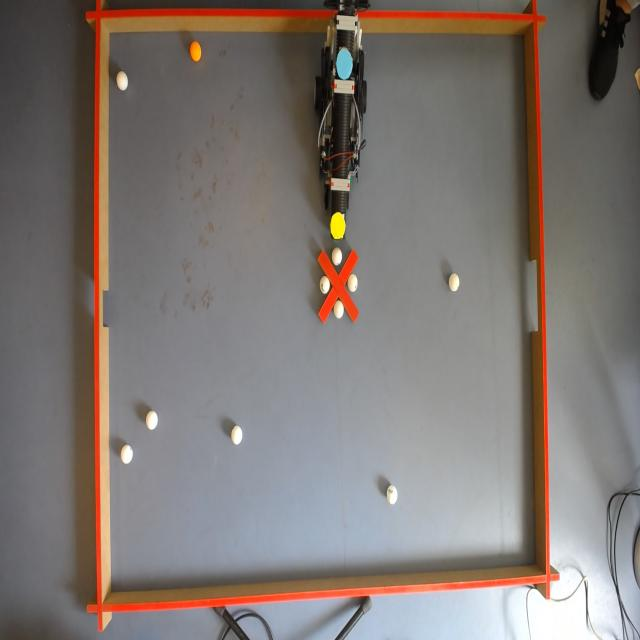orange: (190, 44, 205, 64)
robot: (313, 0, 368, 243)
robot-front: (329, 215, 349, 238)
robot-rear: (334, 49, 356, 78)
white: (144, 410, 160, 429), (116, 71, 128, 94), (448, 272, 460, 292), (122, 445, 134, 465), (388, 484, 400, 504), (231, 426, 242, 447), (332, 302, 343, 321), (332, 250, 344, 267), (348, 276, 358, 290), (320, 278, 330, 292)
